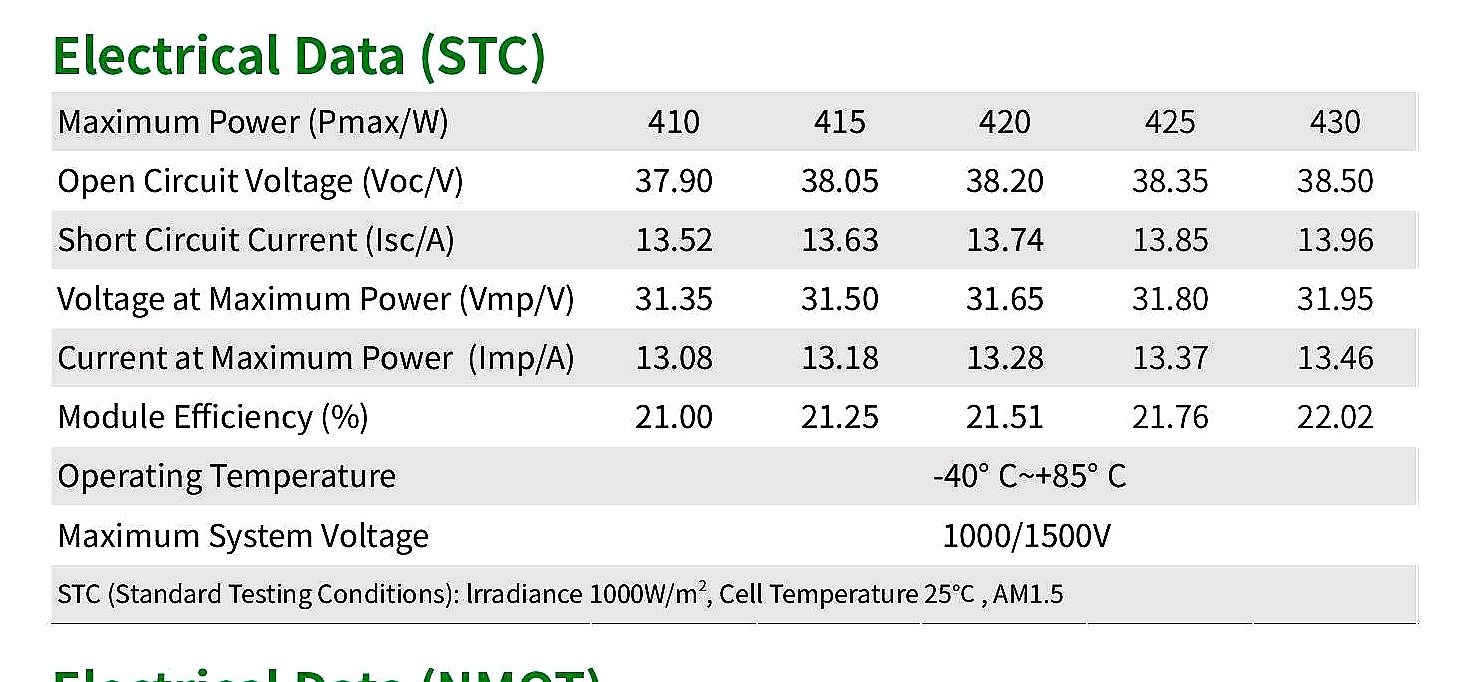table: (37, 87, 1432, 633)
table column: (45, 92, 595, 626), (925, 92, 1092, 624), (1096, 92, 1262, 626), (598, 93, 763, 623), (767, 93, 924, 623), (1264, 93, 1419, 625)
table name: (38, 24, 570, 88)
table row: (42, 92, 1424, 150), (43, 155, 1421, 213), (44, 570, 1425, 625), (45, 512, 1423, 567), (47, 451, 1423, 506), (45, 391, 1425, 445), (42, 275, 1417, 329), (43, 216, 1422, 269), (39, 332, 1421, 384)
table row header: (45, 90, 599, 624)
table spanning cell: (45, 570, 1425, 626), (596, 507, 1423, 570), (598, 449, 1422, 507)
